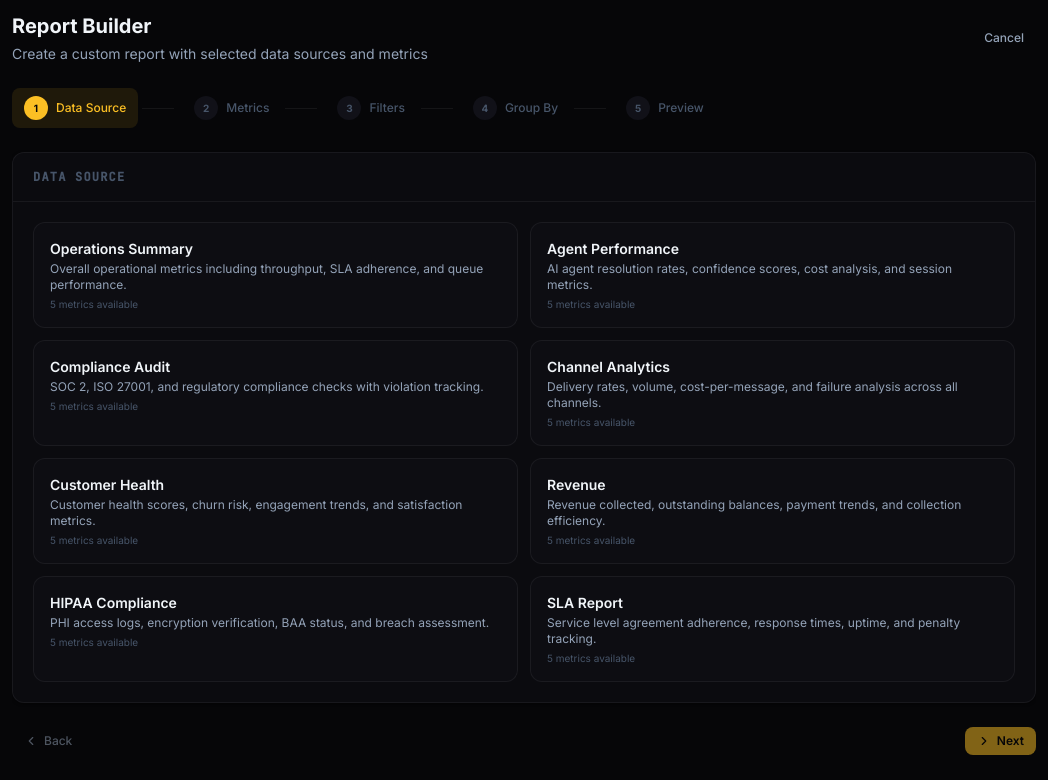
it: ReportBuilder › navigates to Metrics step after selecting a data source
What coordinates should you click on to do the following:
click the text "Operations Summary"
I would click on:
 (122, 248)
Its box is [50,240,193,257].
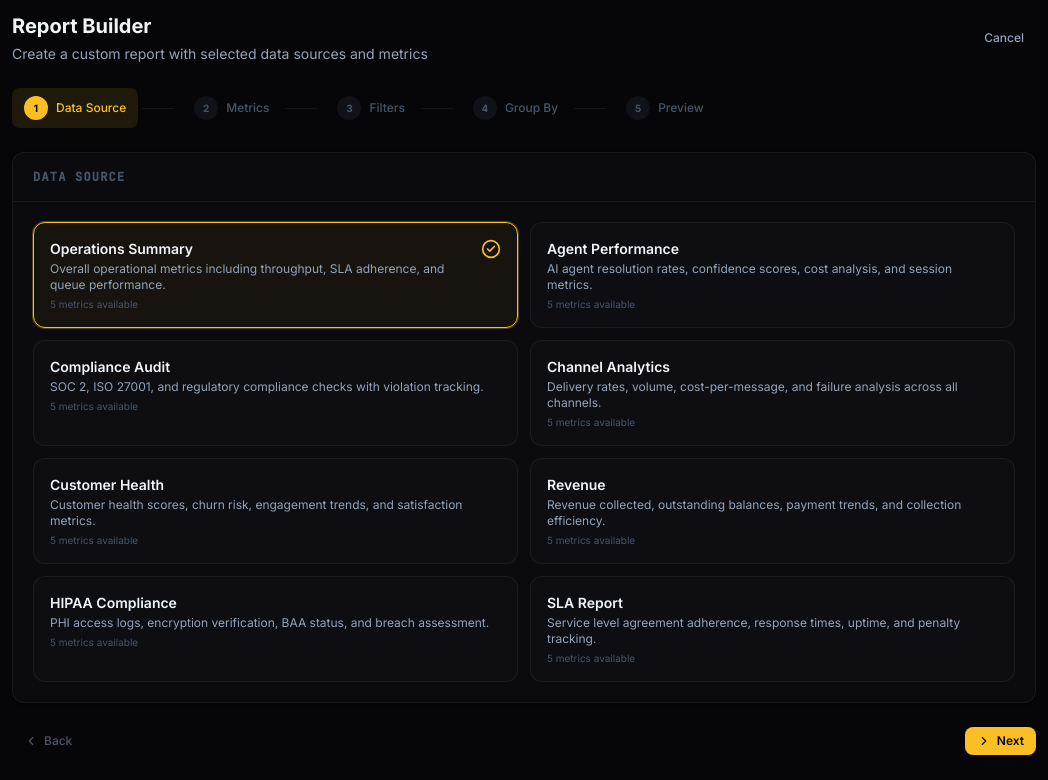
What coordinates should you click on to do the following:
click the button "Next"
I would click on:
 (1000, 741)
Its box is [965,727,1036,755].
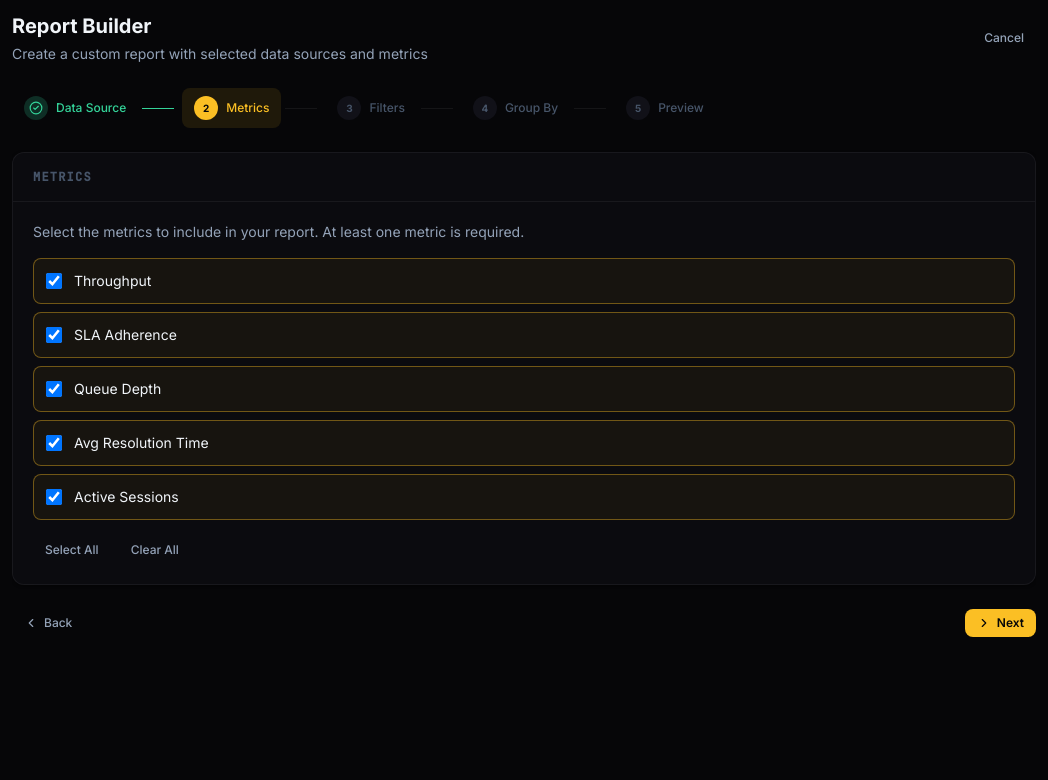
Now the text "Select the metrics to include in your report. At least one metric is required." is shown, box [33,223,524,240]
